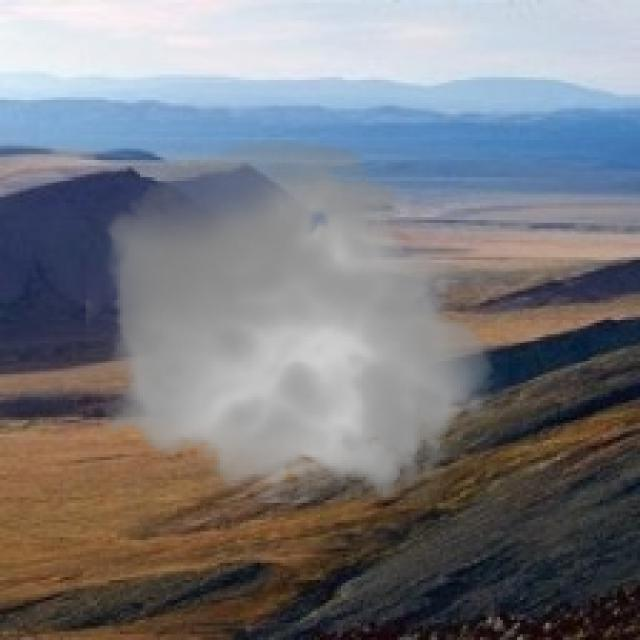smoke: (86, 126, 508, 520)
